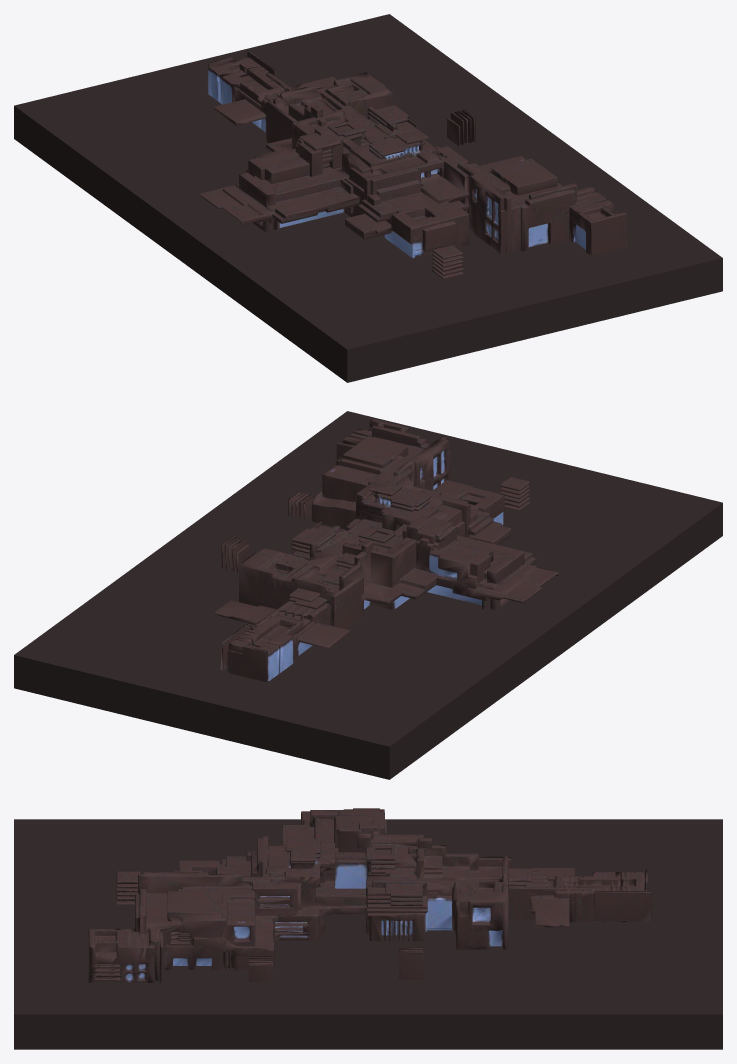
Rendered from house-clay.glb.
The picture shows the model from 3 angles, top to bottom: view 1: azimuth 30°, elevation 25°; view 2: azimuth 150°, elevation 25°; view 3: azimuth 270°, elevation 25°; orthographic projection. The views are drawn at different scales.
Parts seen in each view (by area): view 1: Cube_Material_001_0, Layer_1_thomasmsawyer_2020_07_10_16_53_59_mtl0_0; view 2: Cube_Material_001_0, Layer_1_thomasmsawyer_2020_07_10_16_53_59_mtl0_0; view 3: Cube_Material_001_0, Layer_1_thomasmsawyer_2020_07_10_16_53_59_mtl0_0.
Boxes of the visible parts, x1,y1,x2,y2 form: Cube_Material_001_0: (14,14,722,382); Layer_1_thomasmsawyer_2020_07_10_16_53_59_mtl0_0: (199,51,627,278); Cube_Material_001_0: (14,411,722,779); Layer_1_thomasmsawyer_2020_07_10_16_53_59_mtl0_0: (215,418,558,681); Cube_Material_001_0: (14,819,722,1049); Layer_1_thomasmsawyer_2020_07_10_16_53_59_mtl0_0: (88,808,651,983).
Size of the model in its own units: 9.76 by 2.45 by 15.
2 materials, 1 textured.
